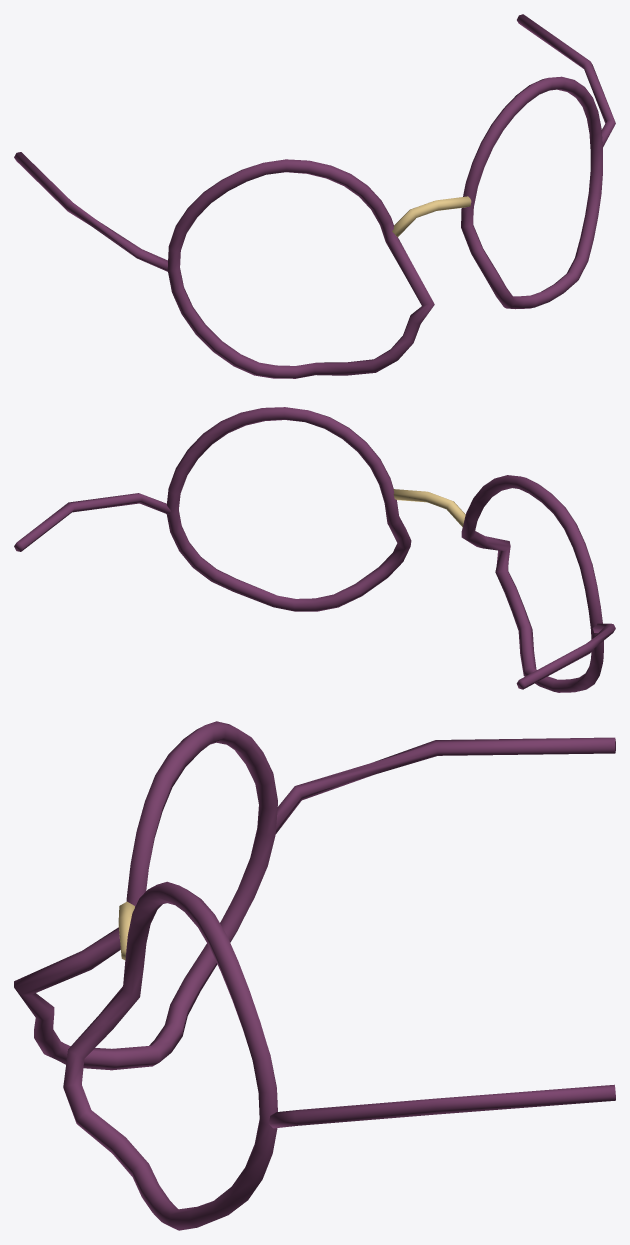
Rendered from round_glasses.glb.
The picture shows the model from 3 angles, top to bottom: view 1: azimuth 30°, elevation 25°; view 2: azimuth 150°, elevation 25°; view 3: azimuth 270°, elevation 25°; orthographic projection. The views are drawn at different scales.
Visible parts, largest first — view 1: Round plum rim 0, Round plum rim 1, Curved glasses temple 0, Curved glasses temple 1, Gently arched bridge; view 2: Round plum rim 1, Round plum rim 0, Curved glasses temple 1, Curved glasses temple 0, Gently arched bridge; view 3: Round plum rim 0, Round plum rim 1, Curved glasses temple 1, Curved glasses temple 0.
Part boxes in pixels (x1,y1,x2,y2): Round plum rim 0: (167, 159, 434, 378); Round plum rim 1: (461, 76, 602, 309); Curved glasses temple 0: (14, 152, 167, 271); Curved glasses temple 1: (517, 14, 615, 146); Gently arched bridge: (392, 196, 471, 237); Round plum rim 1: (166, 407, 411, 611); Round plum rim 0: (461, 475, 603, 692); Curved glasses temple 1: (14, 493, 170, 551); Curved glasses temple 0: (516, 623, 615, 689); Gently arched bridge: (393, 489, 465, 527); Round plum rim 0: (14, 721, 277, 1070); Round plum rim 1: (63, 881, 277, 1230); Curved glasses temple 1: (268, 1084, 615, 1128); Curved glasses temple 0: (275, 737, 615, 833).
Bounding box in the file's own units: 1.03 × 0.424 × 0.6741.
